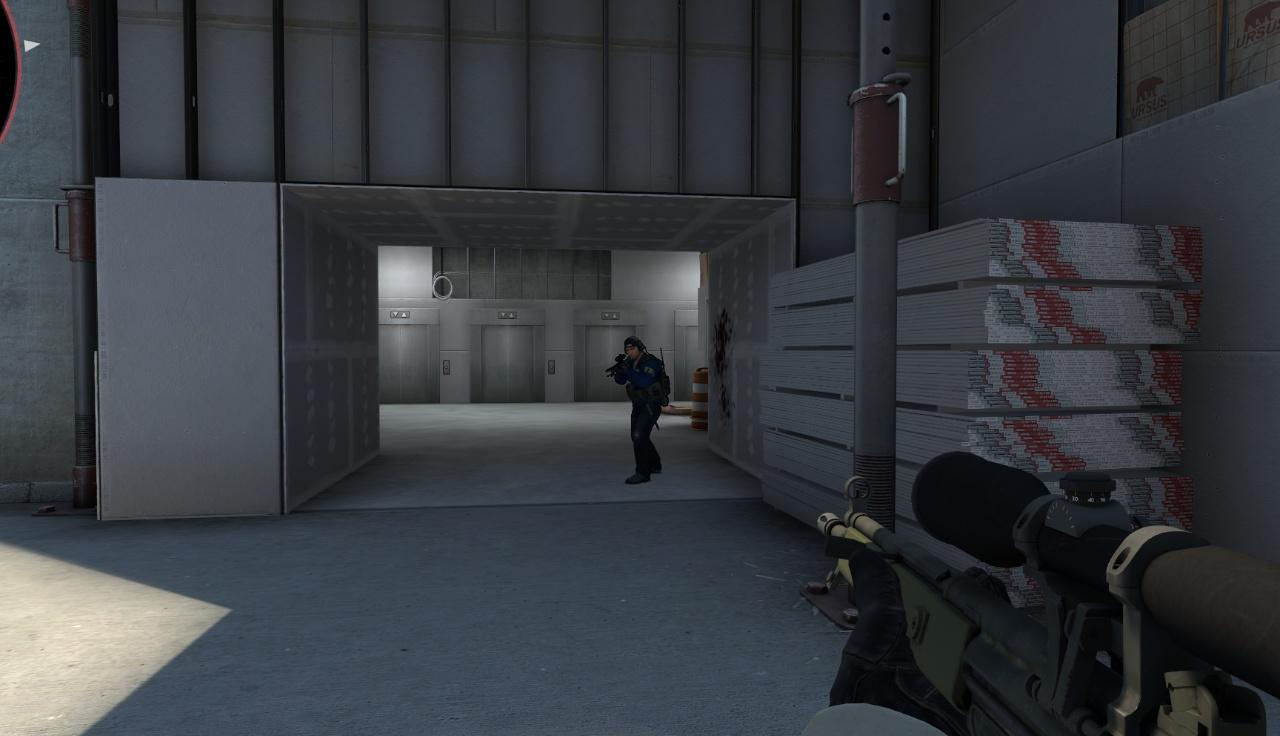ct: (616, 335, 666, 480)
cthead: (624, 336, 644, 363)
sniper: (805, 439, 1280, 736)
